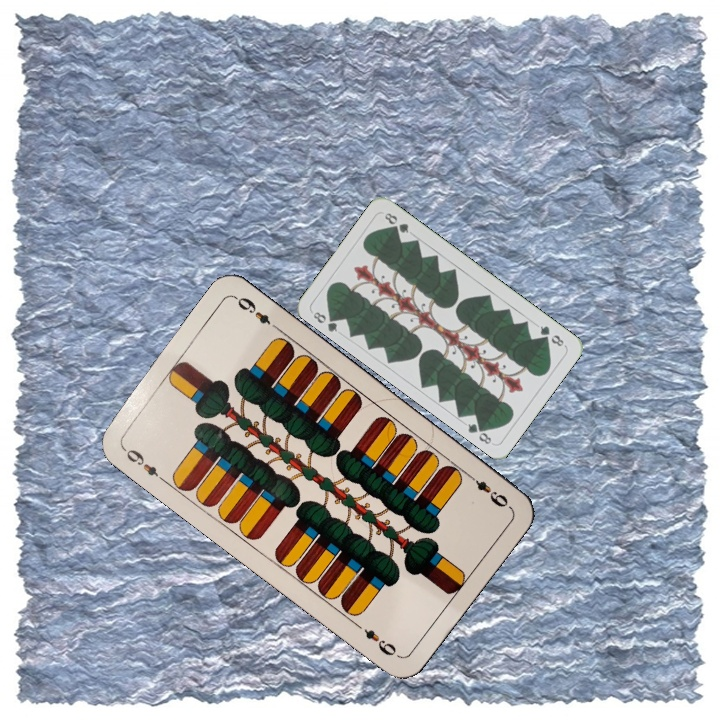E9: (118, 443, 168, 485), (463, 469, 511, 510)
G8: (309, 307, 341, 335), (536, 322, 566, 349)
